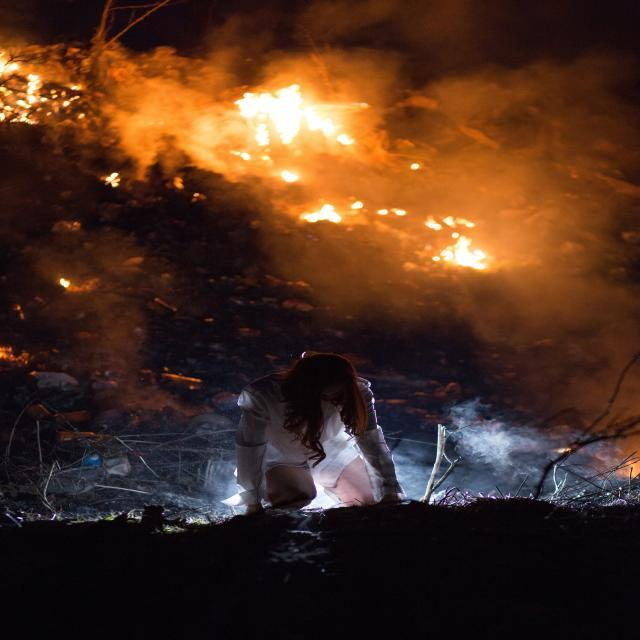Fire: (300, 199, 491, 272), (232, 85, 370, 182), (2, 58, 88, 126)
Smoke: (260, 45, 640, 351), (391, 399, 626, 507)
